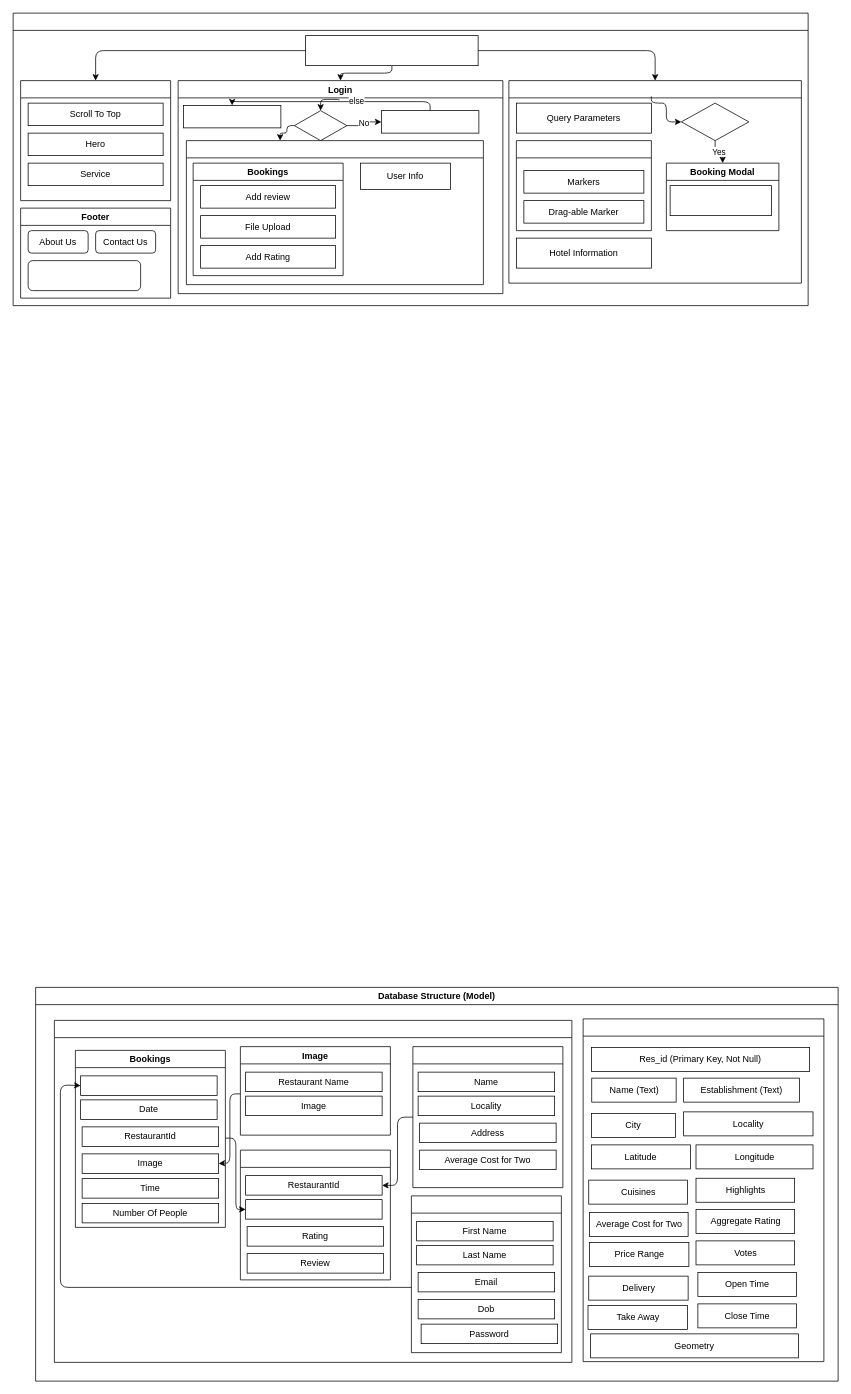
Some shapes in this 851 by 1394 pixel diagram are drawn without their labels. Here are the shapes that lost their labels. From the top down, the box of each, then its label:
(305, 35, 478, 66): Navbar
(183, 105, 281, 128): Sign Up
(294, 110, 347, 141): Signed In
(381, 110, 479, 133): Sign In
(681, 102, 749, 141): Book Hotel
(20, 80, 171, 201): Home
(12, 12, 808, 306): FrontEnd(View)
(516, 140, 651, 231): Map
(508, 80, 801, 283): Locator
(669, 185, 771, 216): Input Parameters
(186, 140, 483, 285): Profile
(27, 260, 141, 291): Media Links
(80, 1075, 217, 1095): User Id
(412, 1046, 563, 1188): Restaurant
(54, 1020, 572, 1362): MongoDB Models
(245, 1199, 382, 1219): BookingId
(582, 1018, 824, 1362): Postgres Model
(240, 1149, 390, 1280): Reviews
(411, 1195, 561, 1353): User
